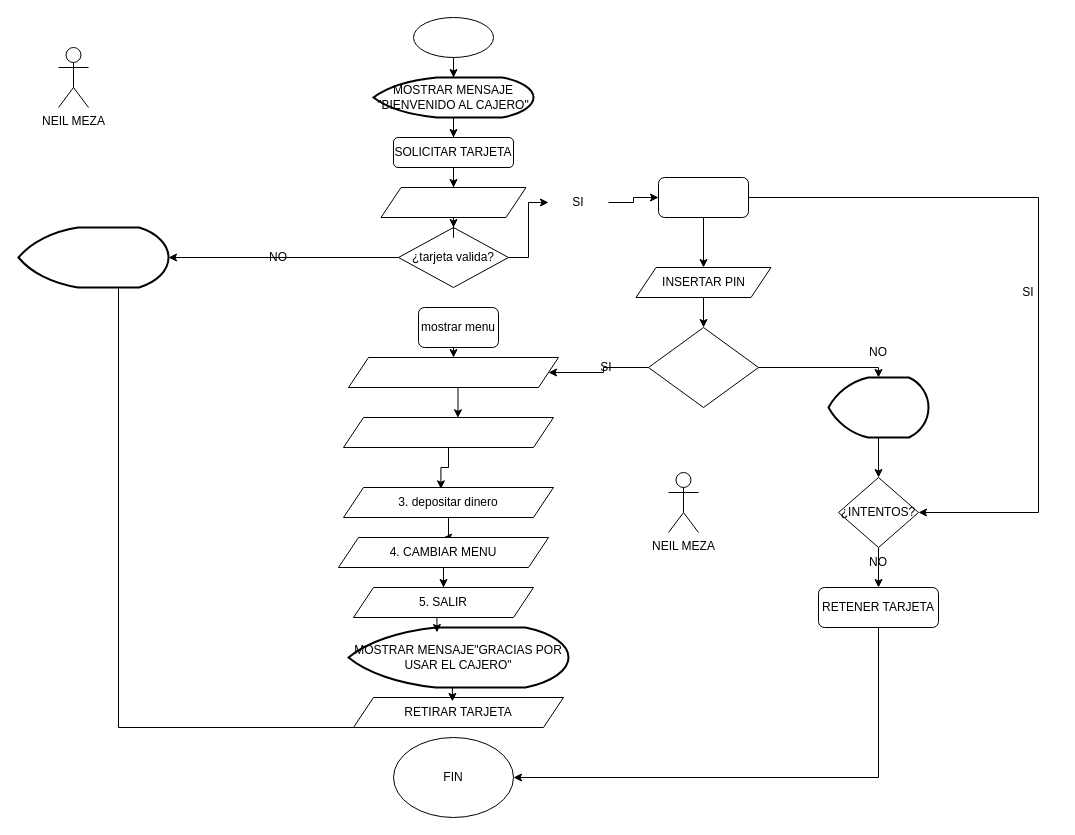
This 1075x835 diagram has some shape labels left out. Here are the shapes that lost their labels. From the top down, the centre of each, then its label:
the point at 453,37: INICIO
the point at 453,202: insertar tarjeta
the point at 703,197: SOLICITAR PIN
the point at 93,257: MOSTRAR MENSAJE"TARJETA NO VALIDA"
the point at 453,372: 1. consultar saldo
the point at 703,367: PIN ¿CORRECTO?
the point at 878,407: MOSTRAR MENSAJE "PIN INCORRECTO"
the point at 448,432: 2. retirar dinero
